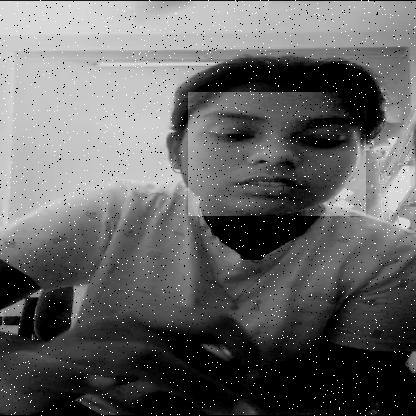Normal: (188, 92, 366, 216)
